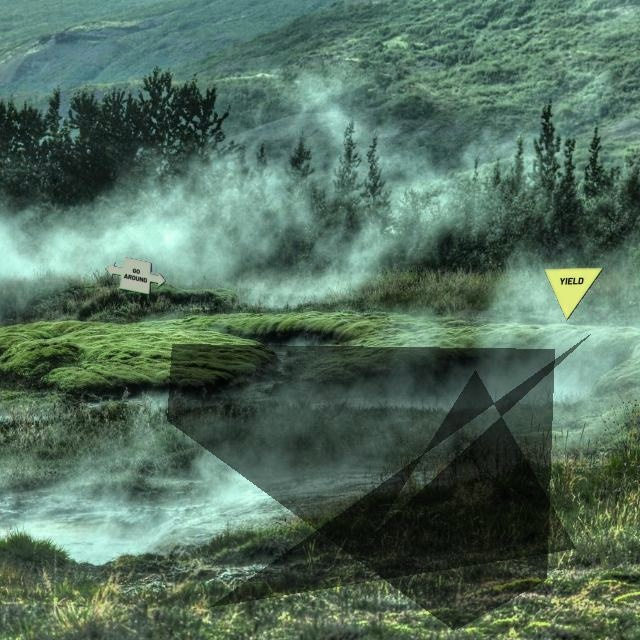GO_AROUND: (105, 256, 166, 295)
YIELD: (543, 267, 604, 321)
